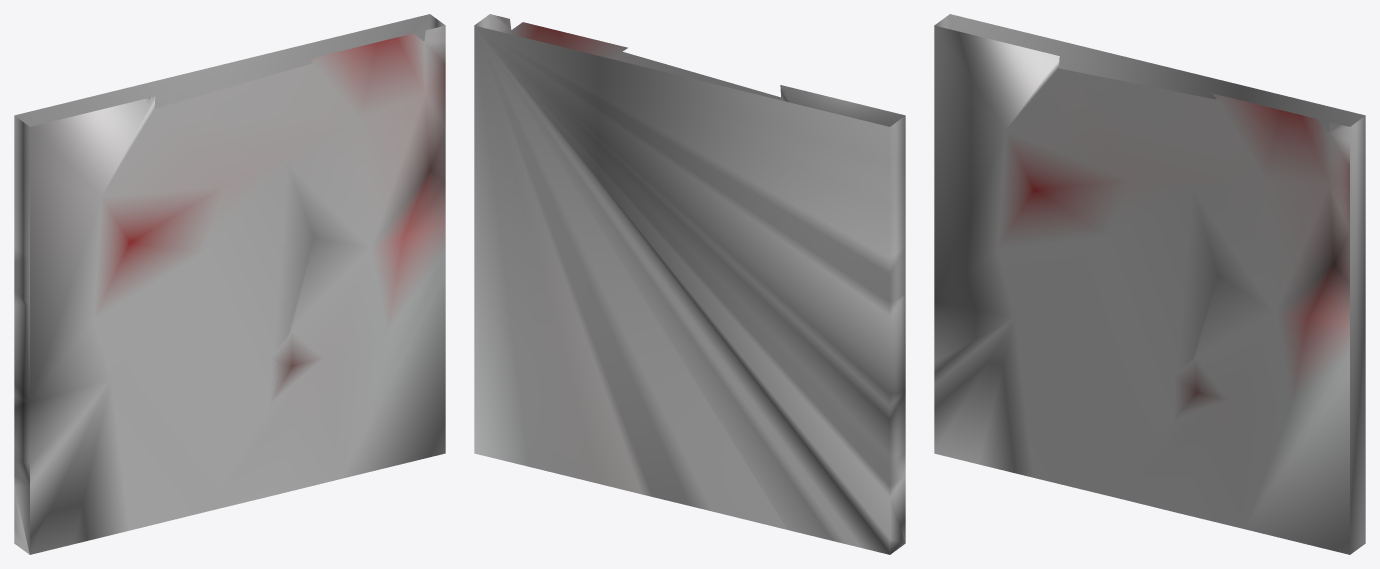
Rendered from SM_FA_Factory_W305_H300.fbx.
3 views of the same model, side by side, from view 1: azimuth 30°, elevation 25°; view 2: azimuth 150°, elevation 25°; view 3: azimuth 330°, elevation 25° (orthographic).
Visible parts, largest first — view 1: SM_FA_Factory_W305_H300; view 2: SM_FA_Factory_W305_H300; view 3: SM_FA_Factory_W305_H300.
Part boxes in pixels (<box>): SM_FA_Factory_W305_H300: <box>14,14,445,554</box>; SM_FA_Factory_W305_H300: <box>474,14,905,554</box>; SM_FA_Factory_W305_H300: <box>934,14,1365,554</box>.
Size of the model in its own units: 305 by 20 by 300.
